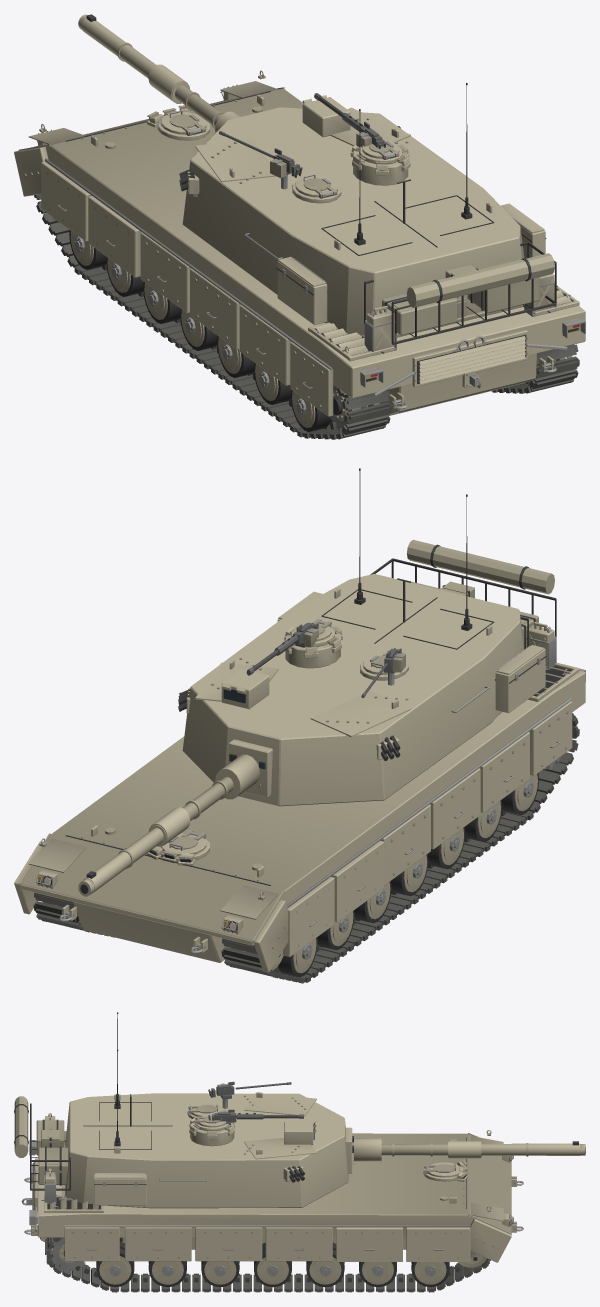
The model's file is usa_mbt_a1.glb.
3 views of the same model, one above another, from view 1: azimuth 30°, elevation 25°; view 2: azimuth 150°, elevation 25°; view 3: azimuth 270°, elevation 25° (orthographic). The views are drawn at different scales.
Parts seen in each view (by area): view 1: body, turret, barrel; view 2: body, turret, barrel; view 3: body, turret, barrel.
Part boxes in pixels (box(x1,y1,x2,y2)): body: box(14, 70, 585, 439); turret: box(179, 83, 556, 344); barrel: box(78, 14, 240, 132); body: box(14, 622, 585, 983); turret: box(178, 468, 556, 806); barrel: box(78, 754, 259, 896); body: box(21, 1113, 523, 1292); turret: box(14, 1012, 354, 1208); barrel: box(354, 1138, 585, 1161).
Bounding box in the file's own units: 3.49 × 4.09 × 9.58.
